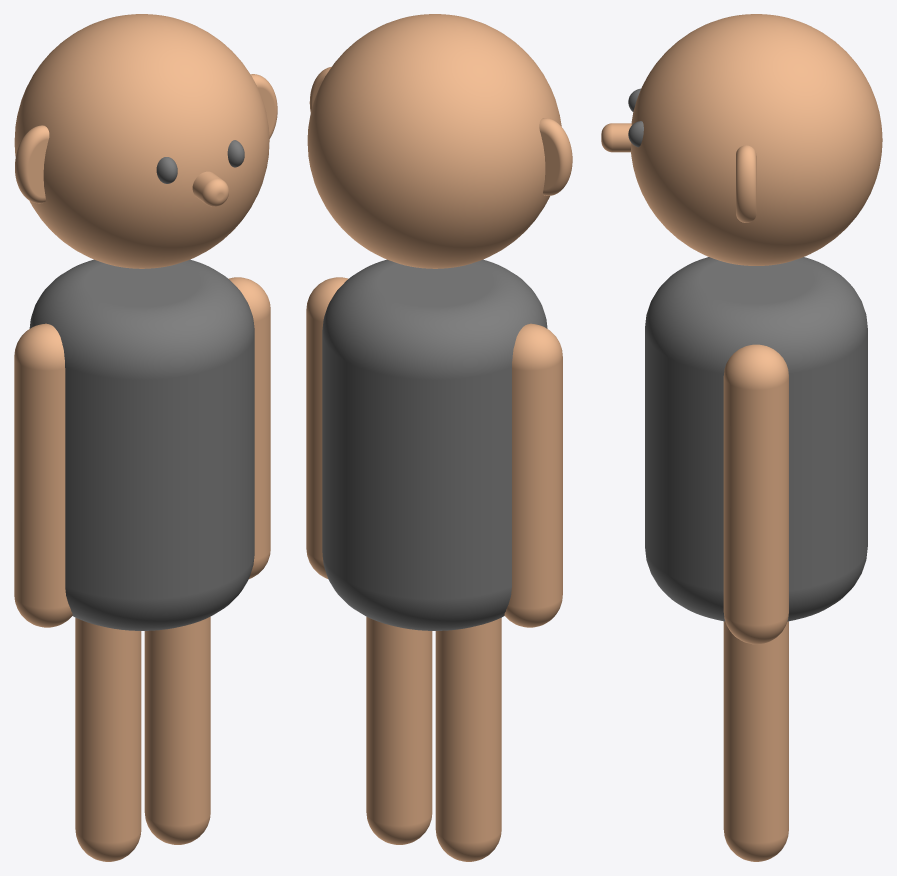
Rendered from explainer-poc-person.glb.
3 renders of one model, left to right at view 1: azimuth 30°, elevation 25°; view 2: azimuth 150°, elevation 25°; view 3: azimuth 270°, elevation 25°, orthographic.
Parts seen in each view (by area): view 1: chest, head, leg-right, arm-right, leg-left, arm-left, ear-right, nose, ear-left; view 2: chest, head, leg-right, arm-right, leg-left, arm-left, ear-right; view 3: chest, head, arm-left, leg-left, ear-left, nose.
Part boxes in pixels (<box>): chest: <box>29,259,254,630</box>; head: <box>14,14,269,268</box>; leg-right: <box>75,617,141,861</box>; arm-right: <box>14,323,72,627</box>; leg-left: <box>144,616,210,844</box>; arm-left: <box>228,277,270,578</box>; ear-right: <box>15,125,49,203</box>; nose: <box>192,171,228,206</box>; ear-left: <box>250,74,277,138</box>; chest: <box>322,259,547,630</box>; head: <box>307,14,561,268</box>; leg-right: <box>435,618,501,861</box>; arm-right: <box>504,323,562,627</box>; leg-left: <box>366,616,432,844</box>; arm-left: <box>306,277,348,578</box>; ear-right: <box>539,118,572,195</box>; chest: <box>645,257,867,621</box>; head: <box>631,14,882,265</box>; arm-left: <box>723,344,788,644</box>; leg-left: <box>723,621,788,861</box>; ear-left: <box>736,145,756,222</box>; nose: <box>601,123,631,152</box>.
Size of the model in its own units: 0.0217 by 0.0662 by 0.0207.
